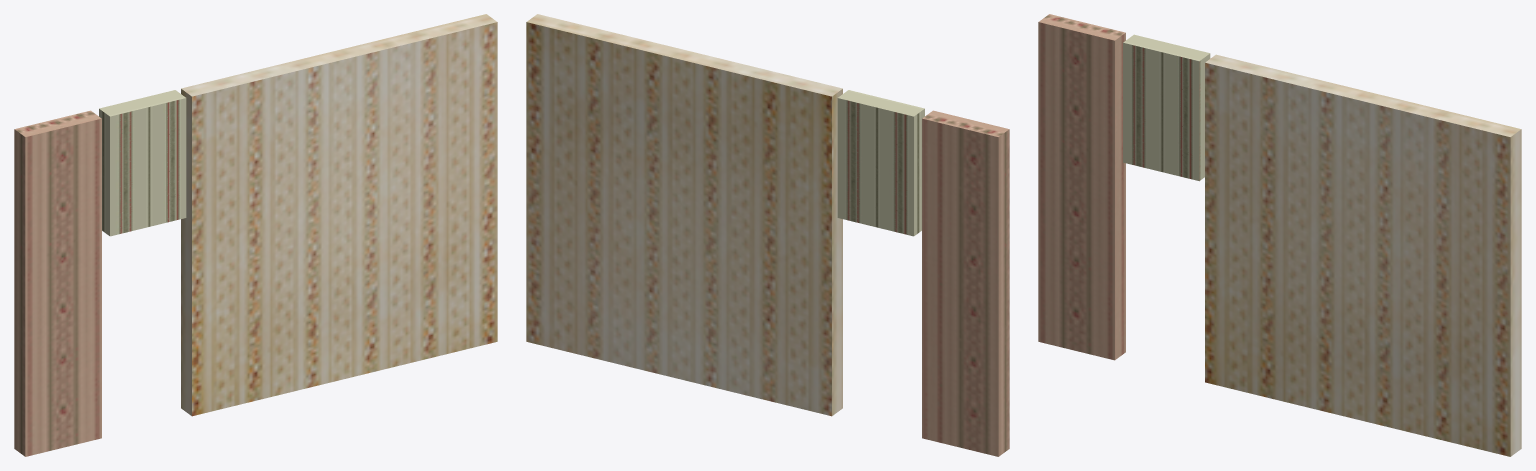
The model's file is обои.fbx.
3 renders of one model, left to right at view 1: azimuth 30°, elevation 25°; view 2: azimuth 150°, elevation 25°; view 3: azimuth 330°, elevation 25°, orthographic.
Visible parts, largest first — view 1: Cube.001, Cube, Cube.002; view 2: Cube.001, Cube, Cube.002; view 3: Cube.001, Cube, Cube.002.
Part boxes in pixels (x1,y1,x2,y2): Cube.001: [181, 14, 497, 416]; Cube: [14, 110, 101, 456]; Cube.002: [99, 90, 186, 236]; Cube.001: [526, 14, 842, 416]; Cube: [922, 110, 1009, 456]; Cube.002: [837, 90, 924, 236]; Cube.001: [1205, 54, 1521, 456]; Cube: [1038, 14, 1125, 360]; Cube.002: [1123, 34, 1210, 181].
Bounding box in the file's own units: 618 × 400 × 25.
